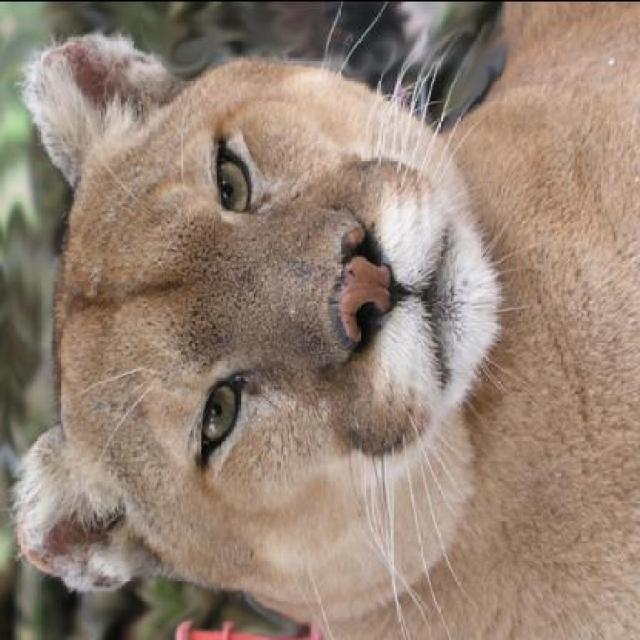Lion: (4, 2, 638, 626)
